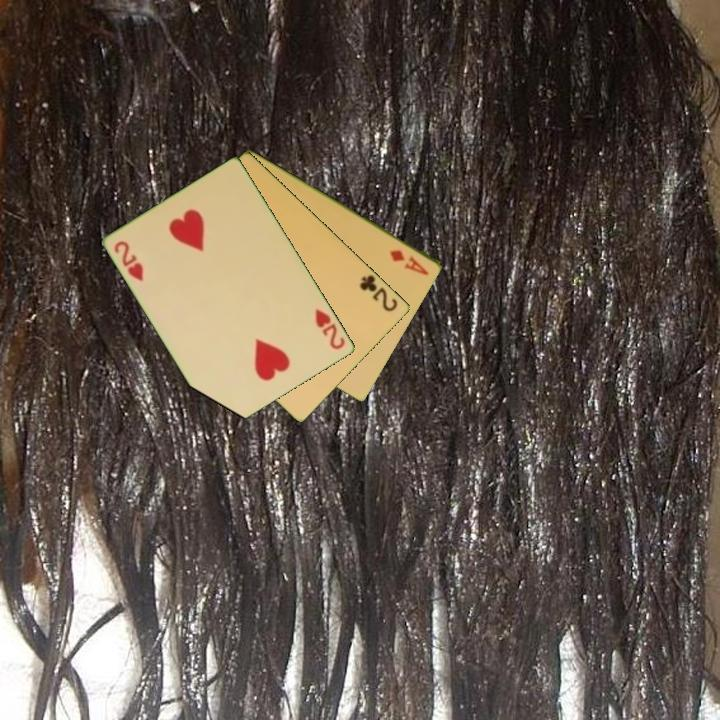2c: (356, 271, 401, 315)
2h: (312, 305, 348, 353), (111, 237, 147, 285)
Ad: (386, 246, 432, 278)
